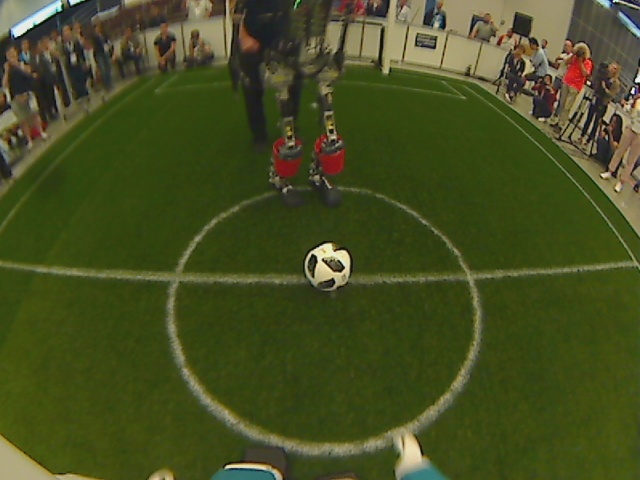ball: (300, 241, 354, 292)
